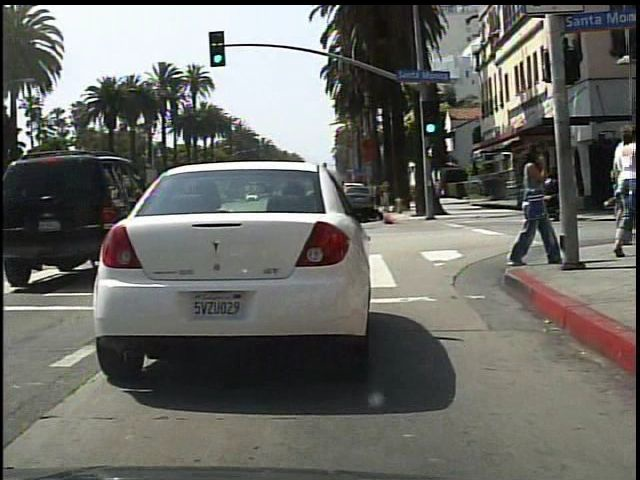person: (502, 139, 556, 271), (601, 121, 640, 262)
